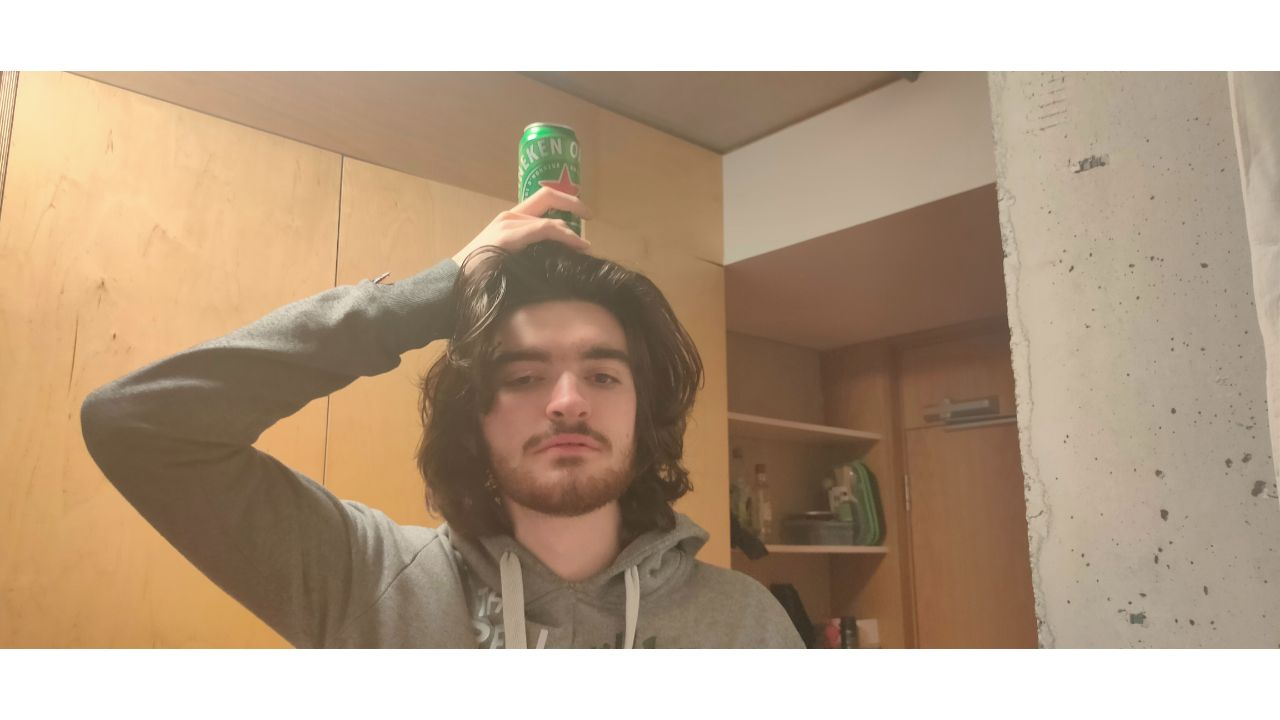Can: (513, 123, 584, 255)
